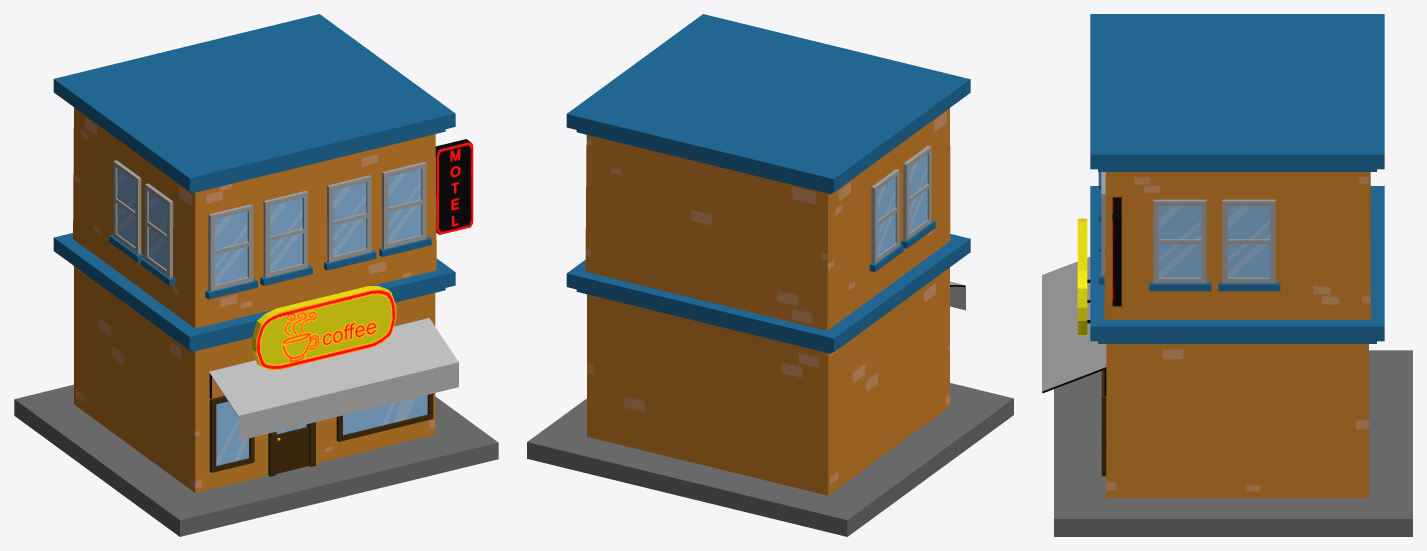
File: coffeeHouse.dae
The picture shows the model from 3 angles, left to right: view 1: azimuth 30°, elevation 25°; view 2: azimuth 150°, elevation 25°; view 3: azimuth 270°, elevation 25°; orthographic projection. The views are drawn at different scales.
Visible parts, largest first — view 1: polySurface5; view 2: polySurface5; view 3: polySurface5.
Boxes of the visible parts, <box> form: polySurface5: <box>14,14,498,536</box>; polySurface5: <box>527,14,1013,536</box>; polySurface5: <box>1042,14,1412,536</box>.
Size of the model in its own units: 1.97 by 2 by 1.82.
Materials: 1 (1 with a texture image).
